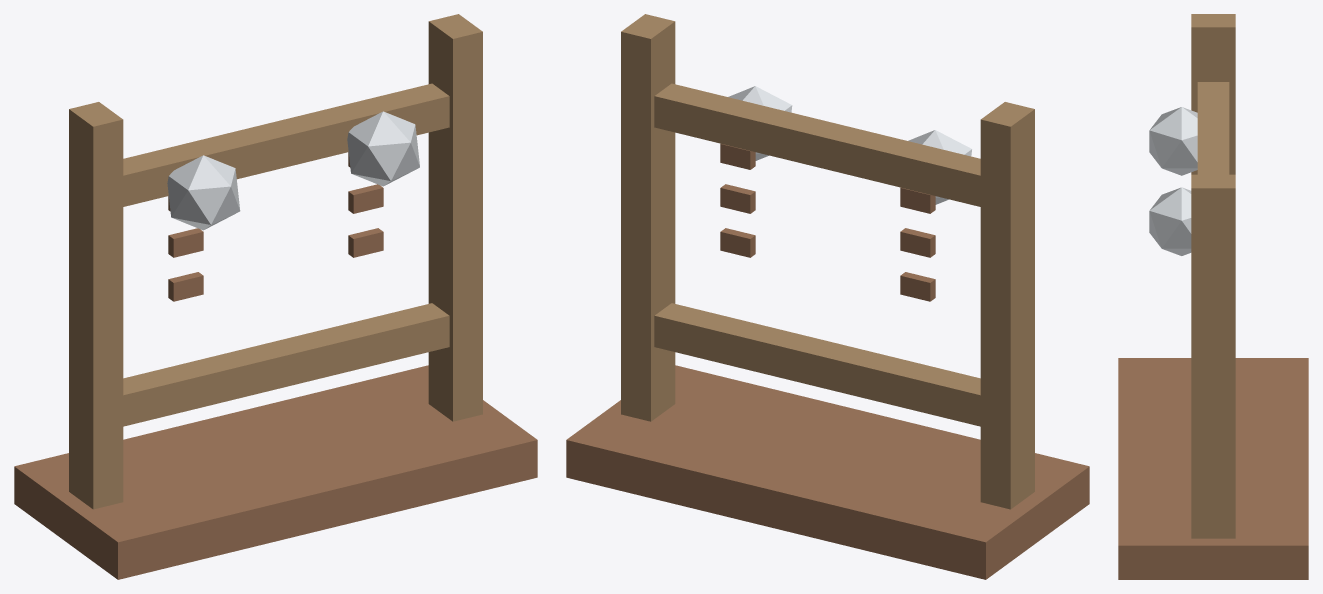
The model's file is dungeon_rack.glb.
3 views of the same model, side by side, from view 1: azimuth 30°, elevation 25°; view 2: azimuth 150°, elevation 25°; view 3: azimuth 270°, elevation 25° (orthographic). The views are drawn at different scales.
Visible parts, largest first — view 1: base, post_0.001, post_1.001, cross_0, cross_1, clamp_1, clamp_0, strap_0_0, strap_1_0, strap_1_1, strap_0_1; view 2: base, post_0.001, post_1.001, cross_1, cross_0, strap_0_0, strap_1_0, strap_0_1, strap_1_1, clamp_1, clamp_0, strap_1_2 (+1 smaller); view 3: base, post_1.001, post_0.001, cross_1, clamp_0, clamp_1.
Boxes of the visible parts, left/top/right/bottom form: base: left=14, top=365, right=537, bottom=579; post_0.001: left=69, top=102, right=123, bottom=509; post_1.001: left=428, top=14, right=482, bottom=421; cross_0: left=123, top=303, right=449, bottom=426; cross_1: left=123, top=83, right=449, bottom=206; clamp_1: left=347, top=111, right=419, bottom=186; clamp_0: left=167, top=155, right=240, bottom=230; strap_0_0: left=168, top=272, right=203, bottom=301; strap_1_0: left=348, top=228, right=383, bottom=257; strap_1_1: left=348, top=184, right=383, bottom=213; strap_0_1: left=168, top=228, right=203, bottom=257; base: left=566, top=365, right=1089, bottom=579; post_0.001: left=980, top=102, right=1034, bottom=509; post_1.001: left=621, top=14, right=675, bottom=421; cross_1: left=654, top=83, right=1018, bottom=211; cross_0: left=654, top=303, right=1014, bottom=426; strap_0_0: left=900, top=272, right=935, bottom=301; strap_1_0: left=720, top=228, right=755, bottom=257; strap_0_1: left=900, top=228, right=935, bottom=257; strap_1_1: left=720, top=184, right=755, bottom=213; clamp_1: left=728, top=86, right=792, bottom=160; clamp_0: left=908, top=130, right=971, bottom=204; strap_1_2: left=720, top=144, right=755, bottom=169; base: left=1118, top=358, right=1308, bottom=579; post_1.001: left=1191, top=174, right=1235, bottom=538; post_0.001: left=1191, top=14, right=1235, bottom=174; cross_1: left=1197, top=82, right=1229, bottom=263; clamp_0: left=1149, top=107, right=1197, bottom=175; clamp_1: left=1149, top=187, right=1191, bottom=255.
Bounding box in the file's own units: 1.4 × 1.34 × 0.6.
